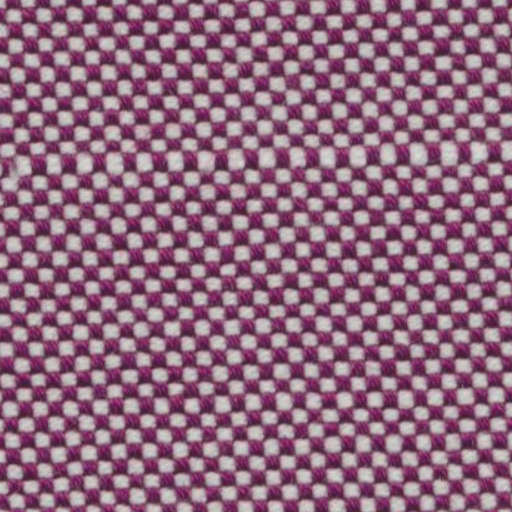TuoSha: (8, 130, 504, 194)
